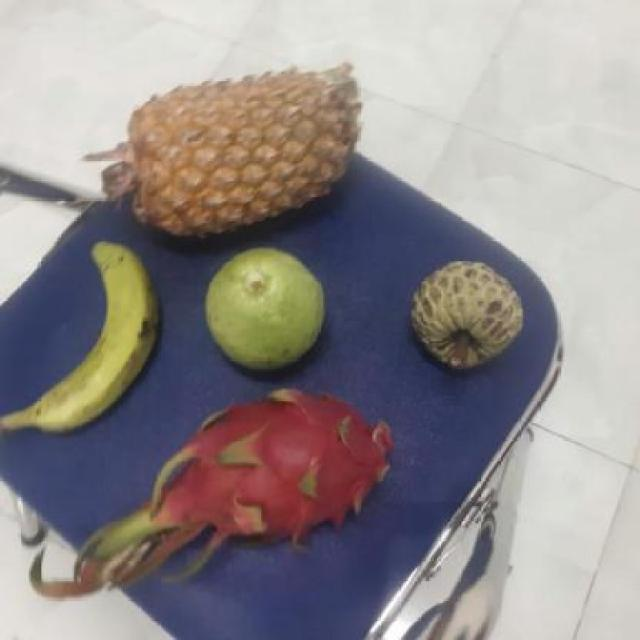banana: (29, 245, 166, 437)
dragon fruit: (155, 392, 409, 550)
guava: (205, 248, 330, 371)
pineapple: (125, 68, 358, 245)
sugar apple: (412, 259, 532, 373)
